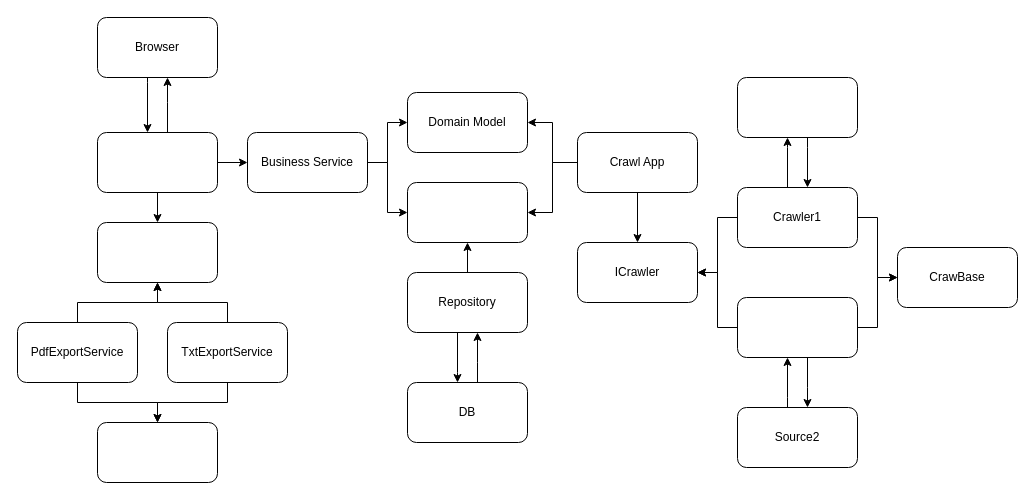
Image size: 1035x500. Some labels were removed from this diagram. The centre of each missing label's shape, as x and y in pixels:
"API endpoint" goes at pixel 157 162.
"Crawler2" goes at pixel 797 327.
"ExportServiceBase" goes at pixel 157 452.
"IFileExportService" goes at pixel 157 252.
"IRepository" goes at pixel 467 212.
"Source1" goes at pixel 797 107.
